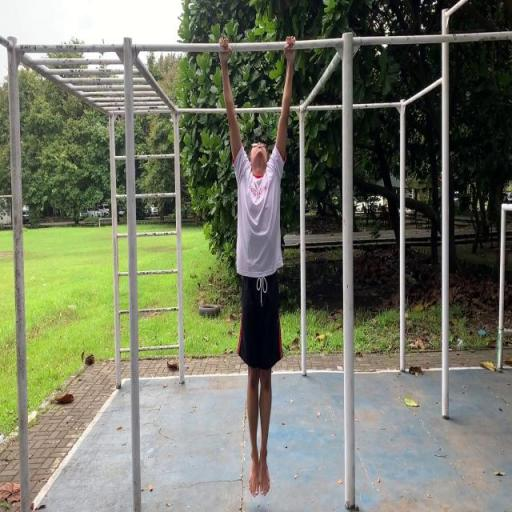Normal_BrenchPress: (217, 34, 297, 498)
